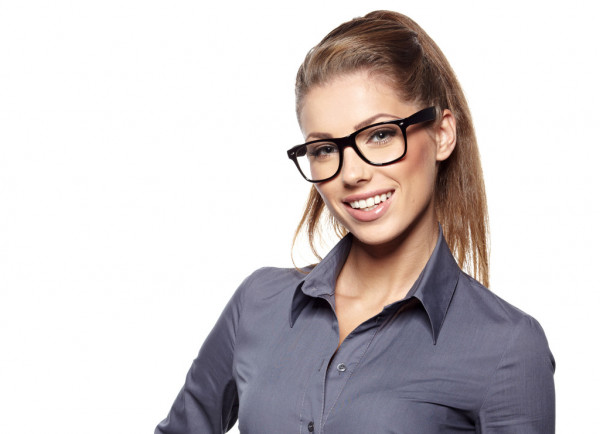glasses: (276, 113, 422, 183)
